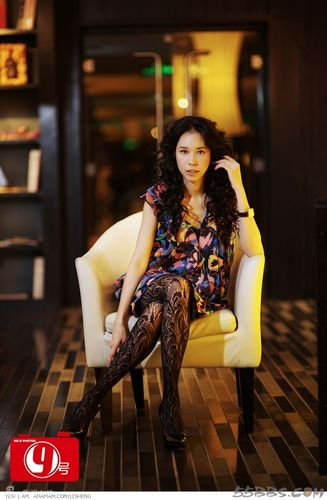handsup: (69, 114, 262, 455)
